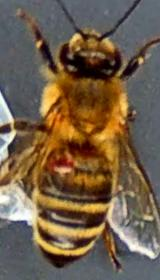varroa_mite: (34, 144, 82, 184)
